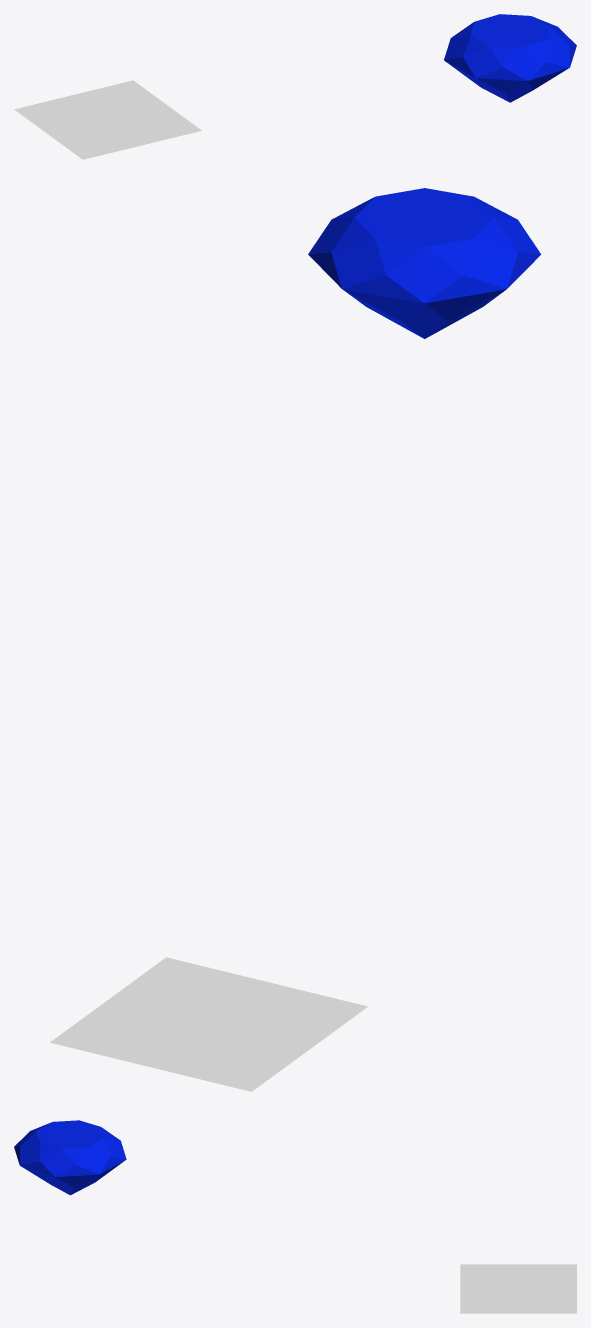
The model's file is Gem.fbx.
The picture shows the model from 3 angles, top to bottom: view 1: azimuth 30°, elevation 25°; view 2: azimuth 150°, elevation 25°; view 3: azimuth 270°, elevation 25°; orthographic projection. The views are drawn at different scales.
Visible parts, largest first — view 1: Plane, Gem; view 2: Plane, Gem; view 3: Plane, Gem.
Part boxes in pixels (bbox=[...]): Plane: bbox=[14, 80, 201, 159]; Gem: bbox=[444, 14, 576, 102]; Plane: bbox=[50, 957, 367, 1091]; Gem: bbox=[308, 188, 540, 338]; Plane: bbox=[460, 1264, 576, 1313]; Gem: bbox=[14, 1120, 126, 1195].
Bounding box in the file's own units: 427 × 399 × 965.
